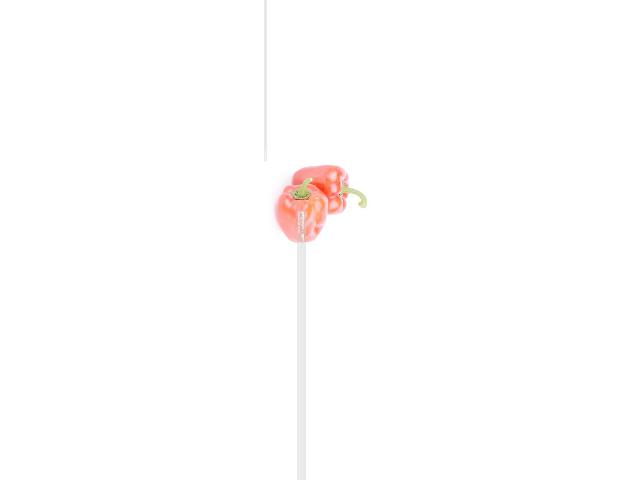bell_pepper: (276, 179, 332, 250)
